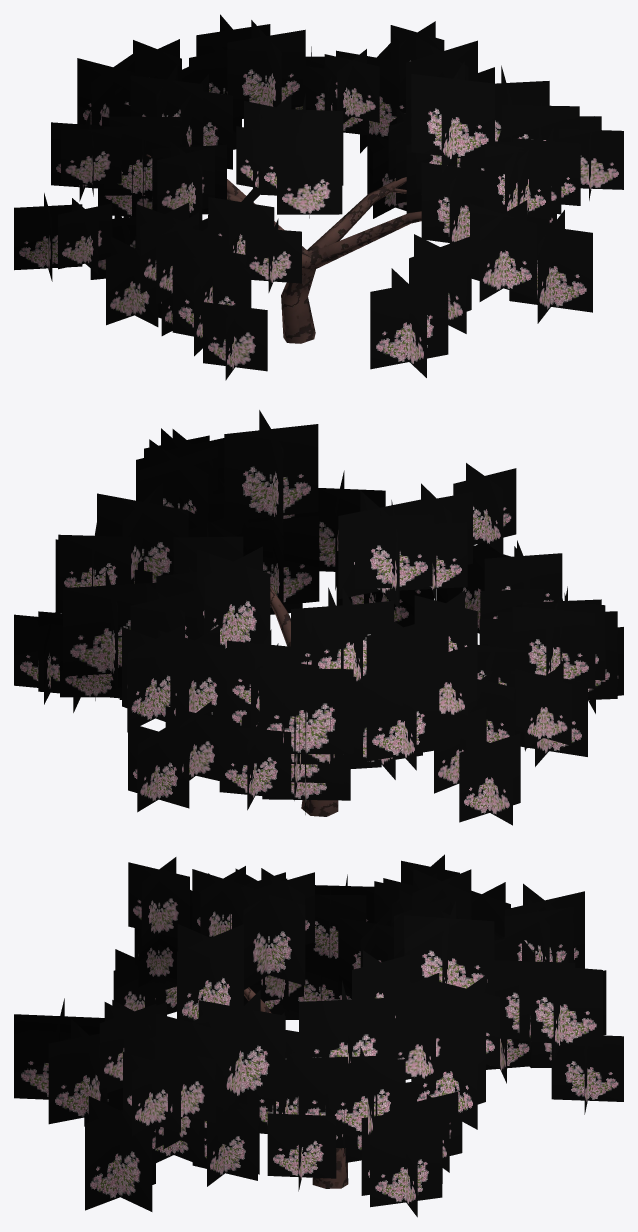
Rendered from cherry2_lod0.fbx.
3 views of the same model, one above another, from view 1: azimuth 30°, elevation 25°; view 2: azimuth 150°, elevation 25°; view 3: azimuth 270°, elevation 25° (orthographic). The views are drawn at different scales.
Visible parts, largest first — view 1: cherry2_lod0; view 2: cherry2_lod0; view 3: cherry2_lod0.
Boxes of the visible parts, x1,y1,x2,y2 form: cherry2_lod0: [14, 14, 623, 380]; cherry2_lod0: [14, 410, 623, 825]; cherry2_lod0: [14, 854, 623, 1217].
Size of the model in its own units: 14.79 by 8.15 by 15.04.
2 materials, 2 textured.
